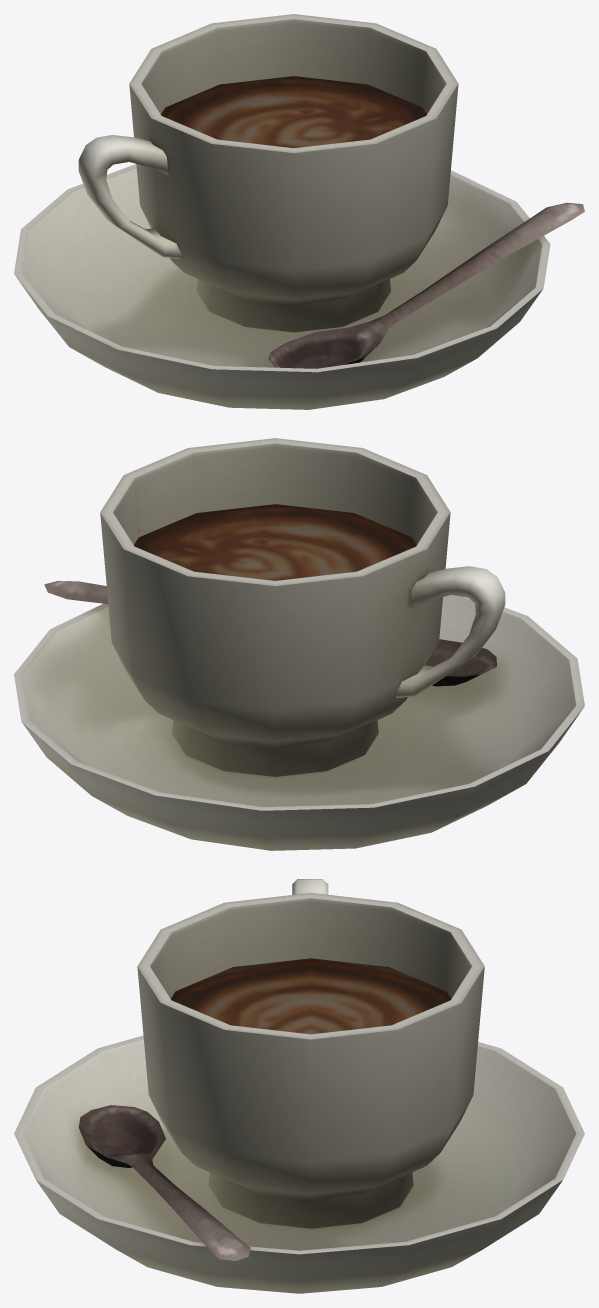
Rendered from BianLiDian_01_kafeibei_01.FBX.
3 views of the same model, one above another, from view 1: azimuth 30°, elevation 25°; view 2: azimuth 150°, elevation 25°; view 3: azimuth 270°, elevation 25° (orthographic). The views are drawn at different scales.
Parts seen in each view (by area): view 1: BianLiDian_01_kafeibei_01; view 2: BianLiDian_01_kafeibei_01; view 3: BianLiDian_01_kafeibei_01.
Part boxes in pixels (x1,y1,x2,y2): BianLiDian_01_kafeibei_01: (14,14,584,409); BianLiDian_01_kafeibei_01: (14,438,584,850); BianLiDian_01_kafeibei_01: (14,879,584,1293).
Bounding box in the file's own units: 72.79 × 32.07 × 67.6.
